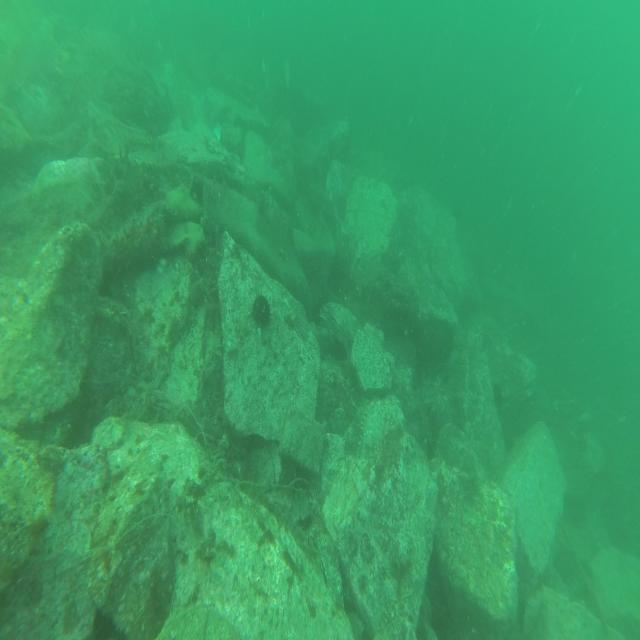echinus: (248, 291, 272, 331)
holothurian: (351, 394, 372, 441)
